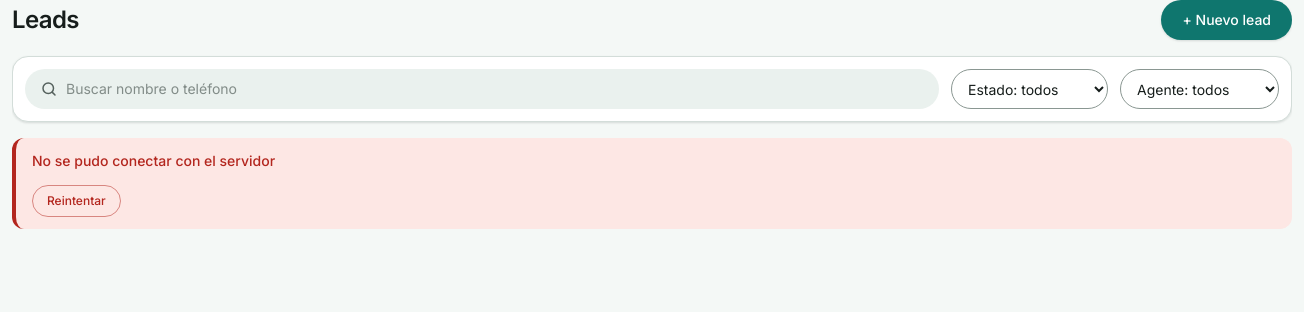
Scenario: LeadsPage › muestra el error de la API y permite reintentar
Check: the message shows "No se pudo conectar con el servidor", box [32,152,275,169]
Click the button "Reintentar": click(76, 201) [32,185,121,217]
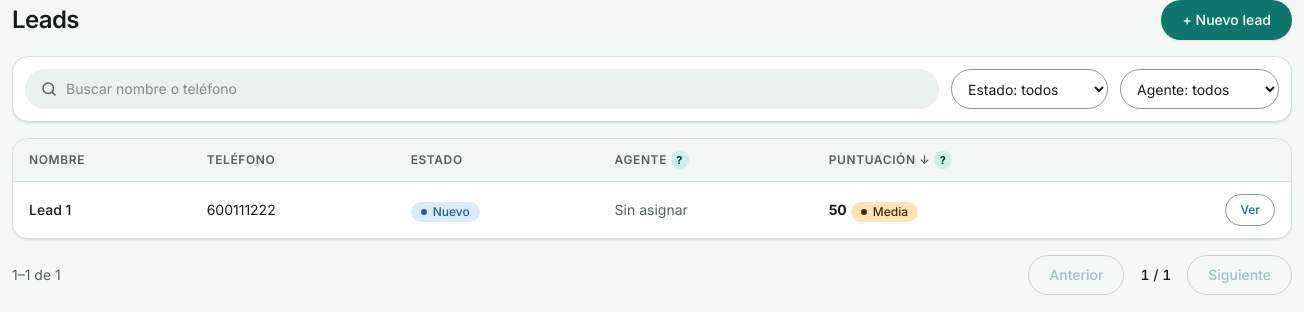
Check: the link "Lead 1" is shown, box [29,201,71,218]
